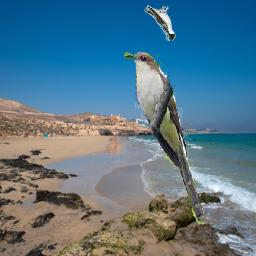Cuckoo: (124, 52, 204, 224)
Swallow: (144, 5, 176, 41)
